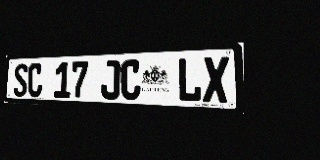1: (54, 62, 71, 98)
7: (71, 61, 88, 99)
C: (120, 59, 141, 100), (27, 63, 43, 97)
J: (101, 60, 120, 100)
L: (177, 57, 202, 102)
S: (13, 63, 28, 97)
X: (203, 56, 229, 103)
